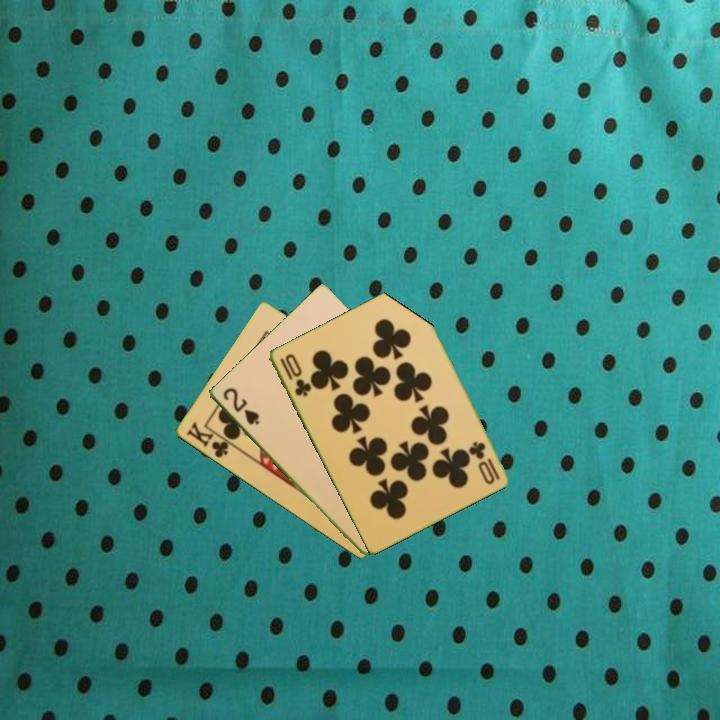10c: (276, 350, 314, 399), (466, 438, 502, 487)
2s: (219, 384, 262, 428)
Kc: (182, 418, 237, 461)
